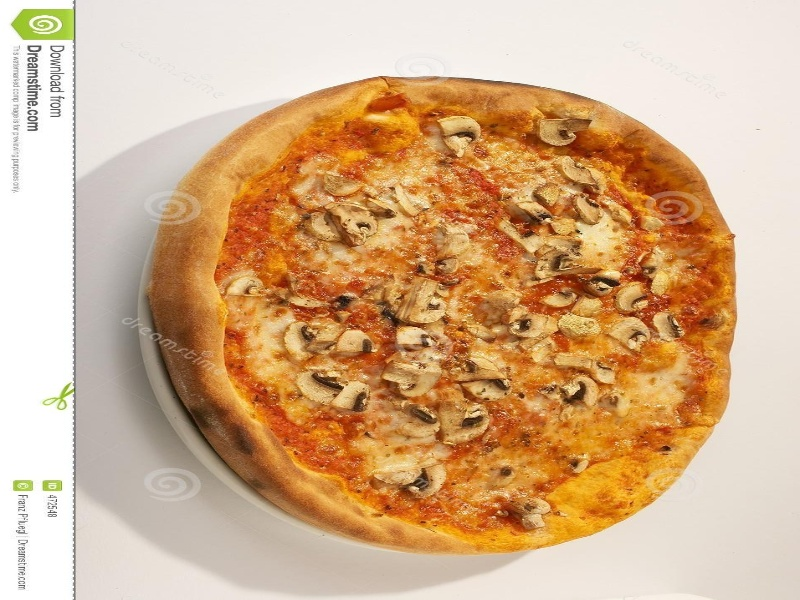champignon: (381, 270, 454, 326), (321, 199, 379, 248), (433, 114, 496, 158), (279, 318, 328, 366), (292, 369, 345, 409), (607, 281, 654, 318)
